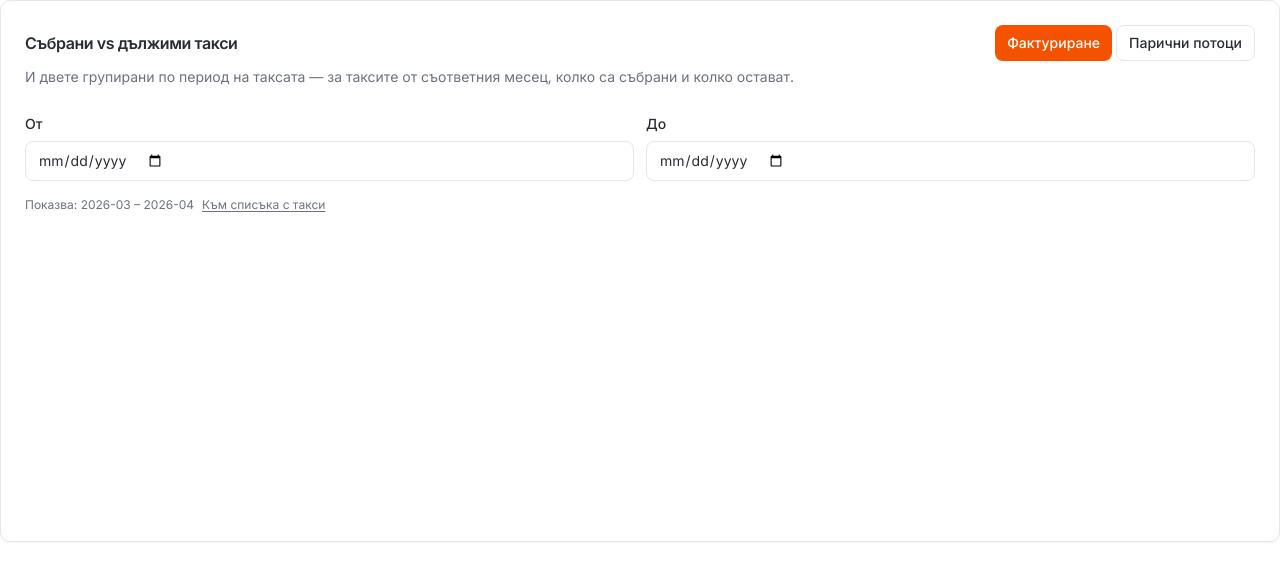
it: FeesChart › date filters › clicking clear empties the field and refetches without that bound
The width and height of the screenshot is (1280, 585).
Expected: the row with test id "chart-row-2026-03" is shown, [24,542,250,568]
Type "2026-01-01" into the date field labelled "От" at (330, 161), box [25,141,634,181]
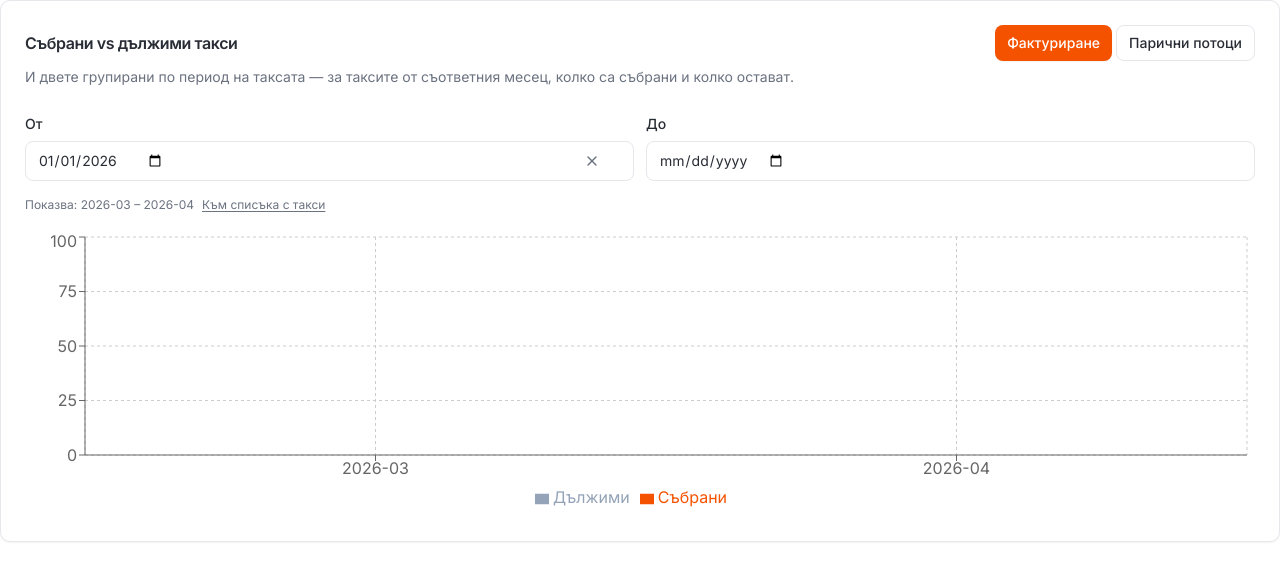
Click the button named "Изчистване на началната дата" at (592, 161), box [578,147,606,175]
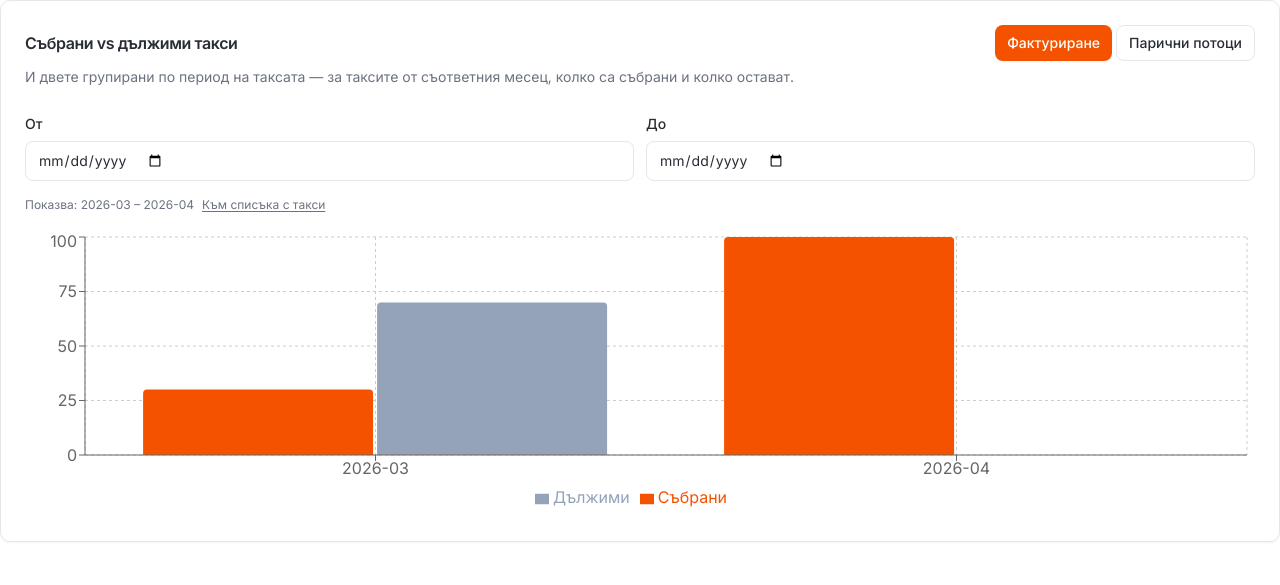
Result: the date field labelled "От" is empty at [25,141,634,181]
